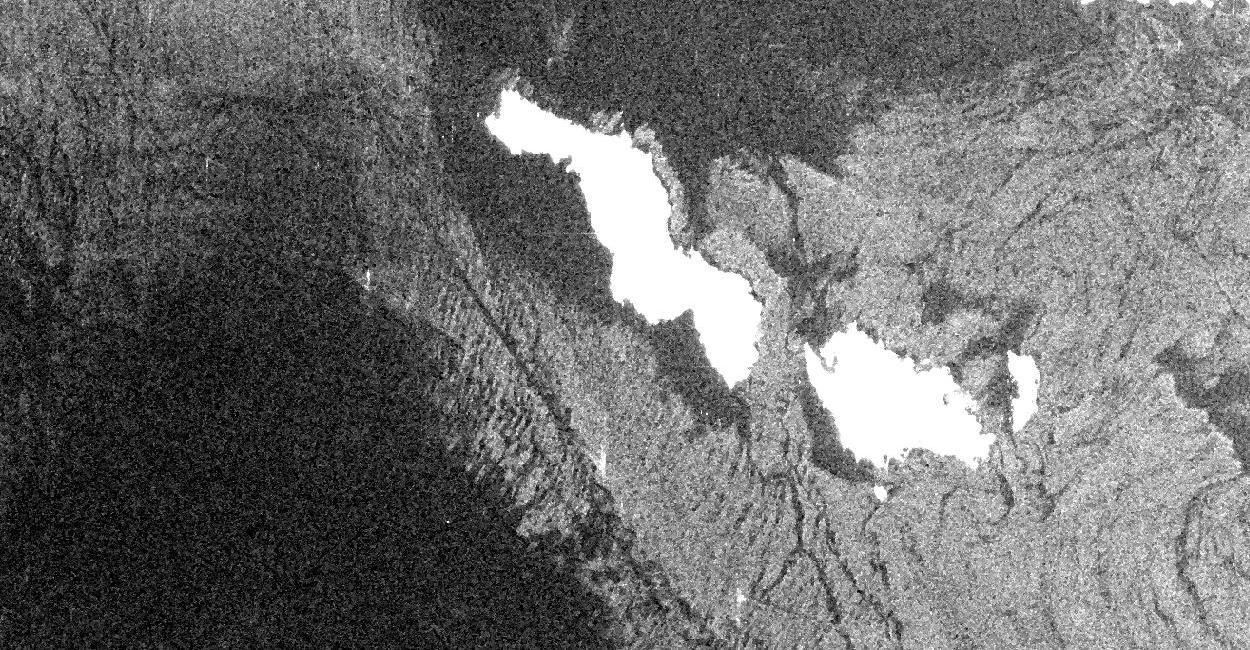Look-alike: (0, 0, 1132, 650)
